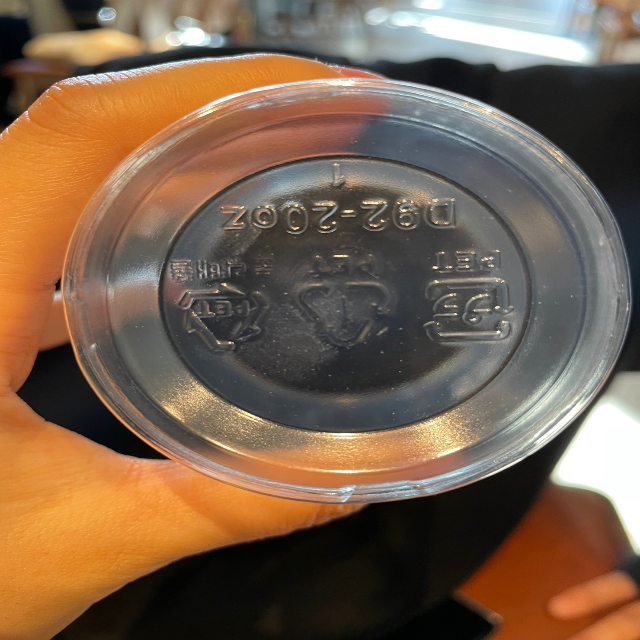pet: (162, 248, 280, 356), (284, 249, 402, 350), (417, 243, 520, 352)
